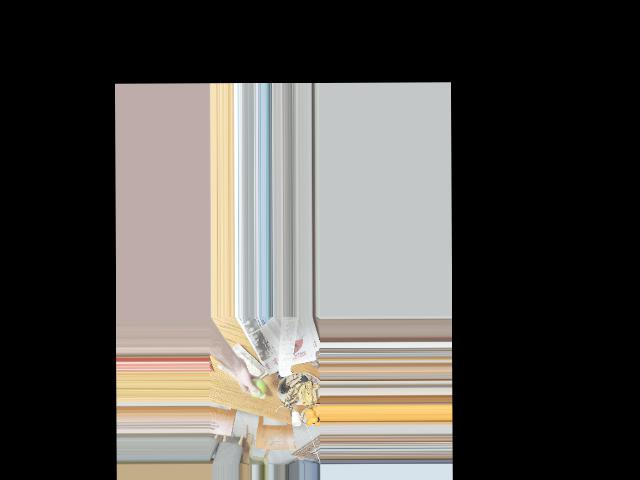apple: (248, 377, 266, 397)
